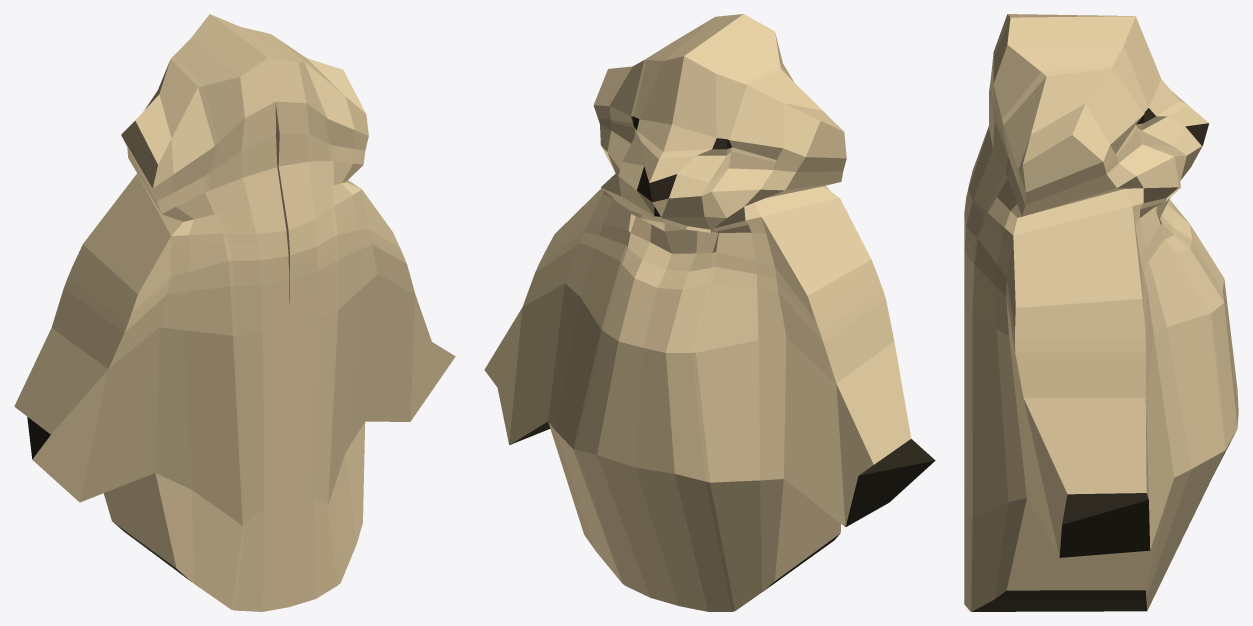
File: pewito.glb
3 renders of one model, left to right at view 1: azimuth 30°, elevation 25°; view 2: azimuth 150°, elevation 25°; view 3: azimuth 270°, elevation 25°, orthographic. The views are drawn at different scales.
Parts seen in each view (by area): view 1: Plane; view 2: Plane; view 3: Plane.
Part boxes in pixels (bbox=[...]): Plane: bbox=[14, 14, 455, 611]; Plane: bbox=[484, 14, 935, 611]; Plane: bbox=[964, 14, 1238, 611].
Bounding box in the file's own units: 4 × 4.83 × 2.08.
